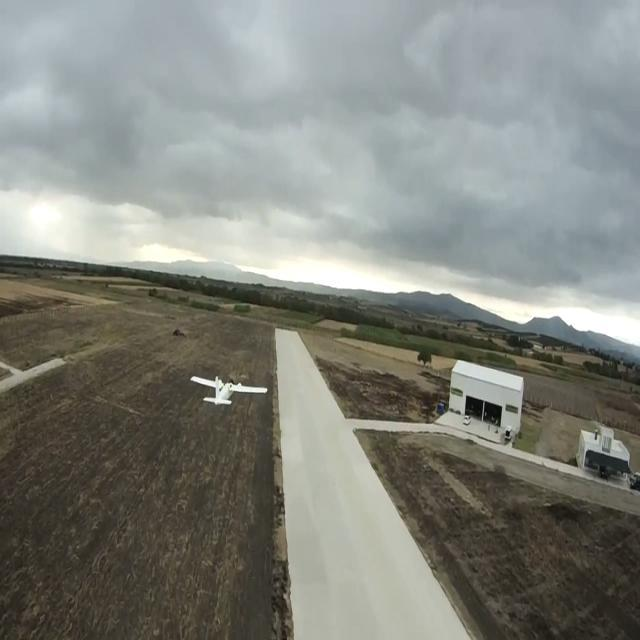iha: (214, 361, 237, 416)
